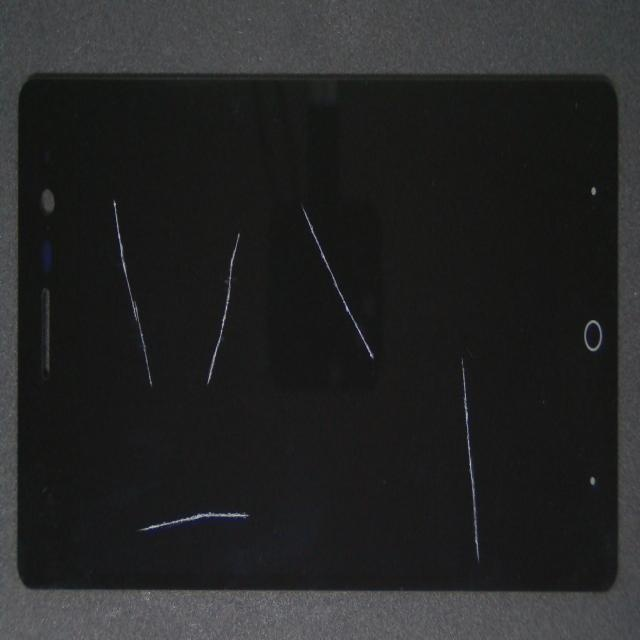scratch: (109, 8, 480, 391), (133, 23, 333, 424)
